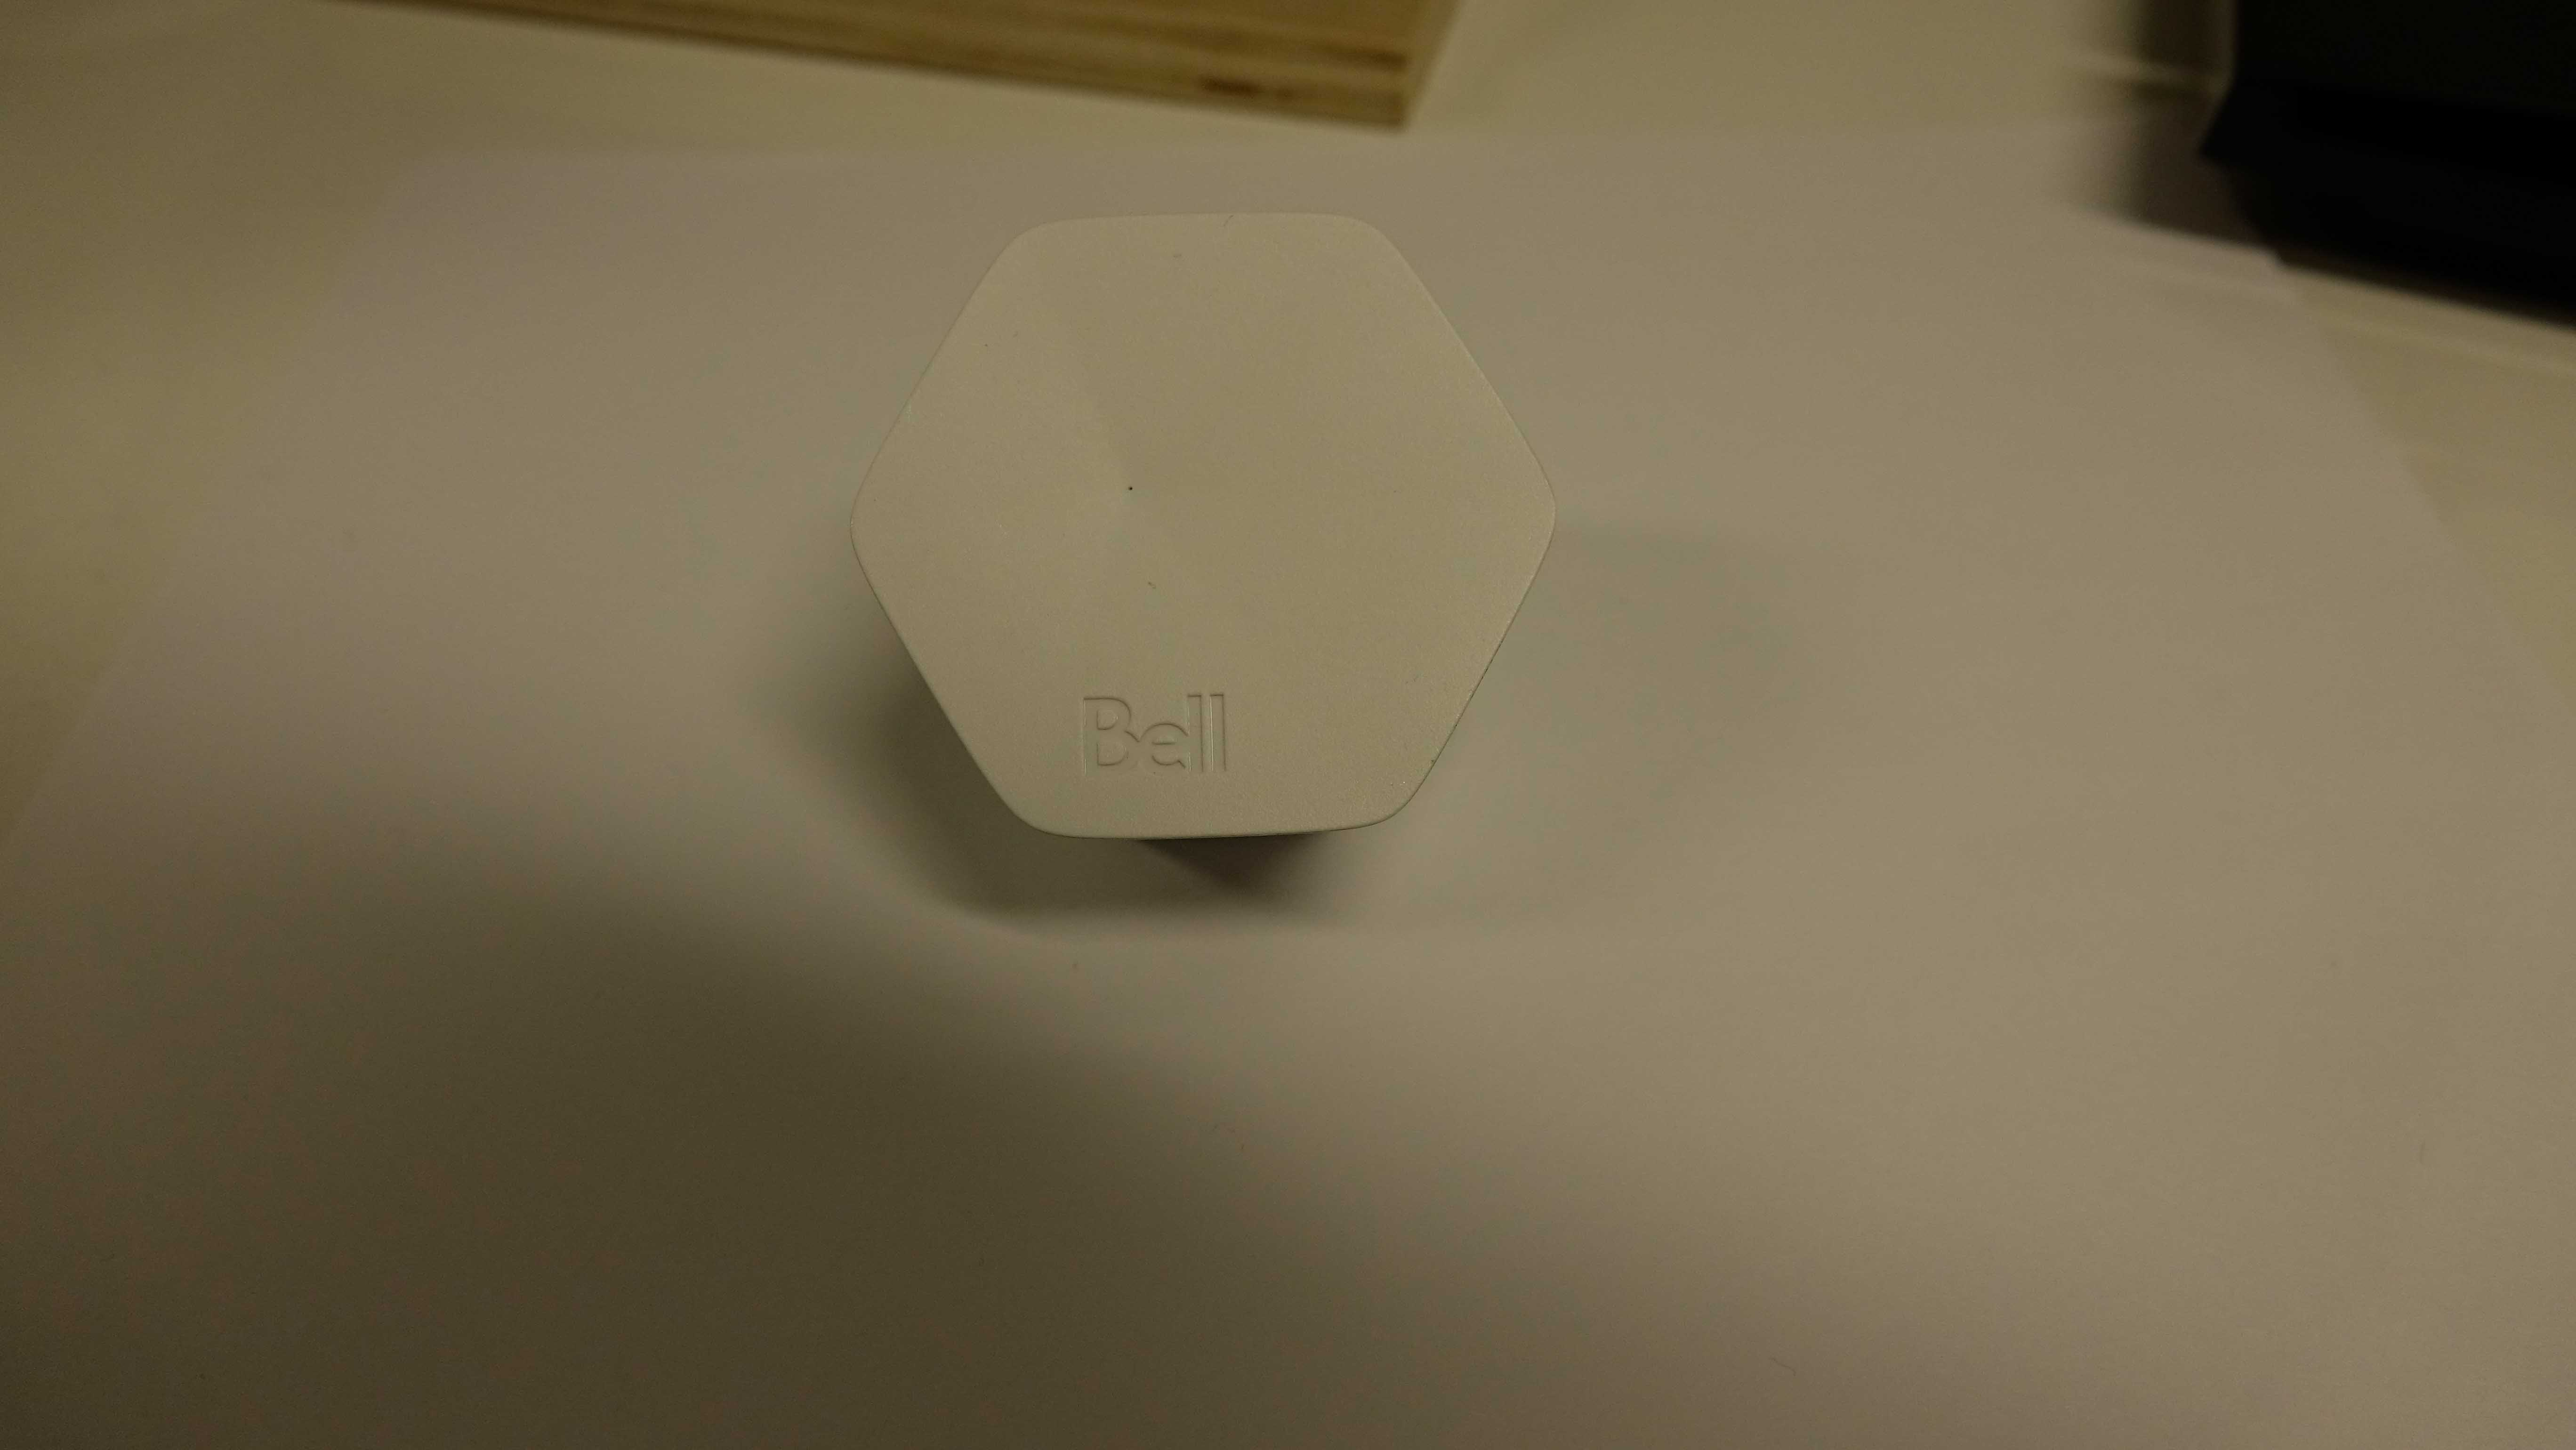pod: (837, 198, 1569, 852)
